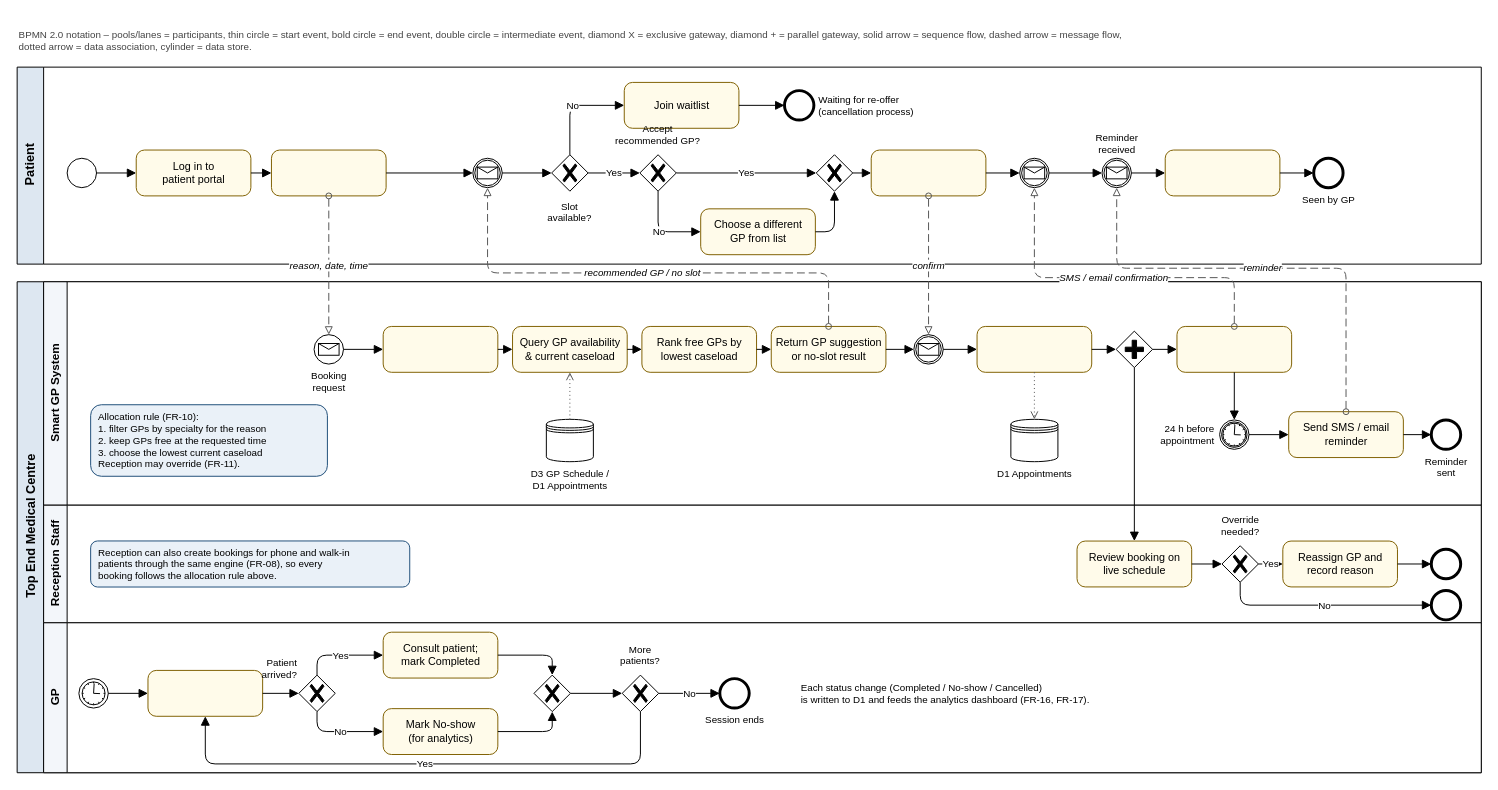
The diagram is 1498 pixels wide and 790 high, and some of its shapes have lost their labels. The shapes that lost their labels are listed below. From the top down, each one's centre as x and y in pixels, then its label:
the point at 81,172: Needs a GP appointment
the point at 328,172: Select reason, date and time
the point at 487,172: Result received
the point at 928,172: Confirm booking
the point at 1034,172: Confirmation received
the point at 1222,172: Attend appointment
the point at 440,348: Map reason to required specialty
the point at 928,349: Patient confirmation
the point at 1034,348: Store booking & allocation log
the point at 1234,348: Send confirmation; schedule reminder
the point at 93,693: Start of session
the point at 205,692: Open live 'My schedule'
